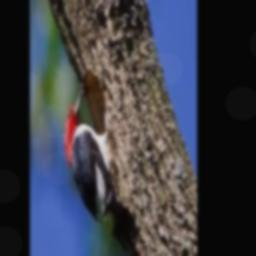Woodpecker: (65, 83, 137, 256)
